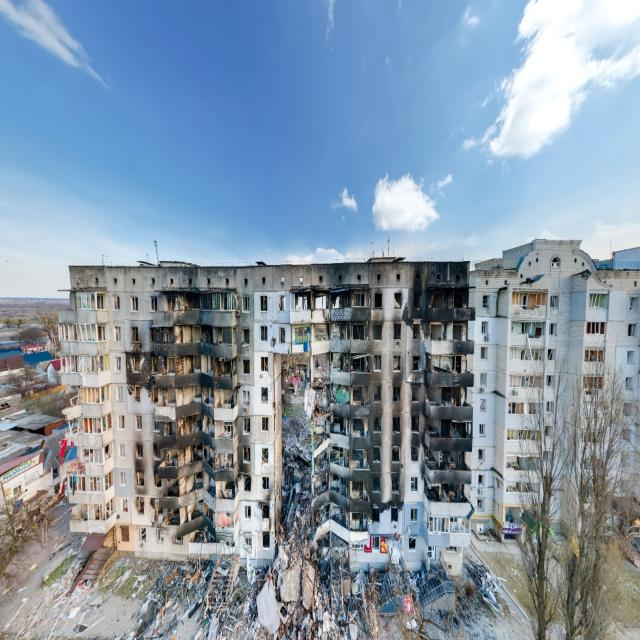building: (468, 236, 640, 544)
